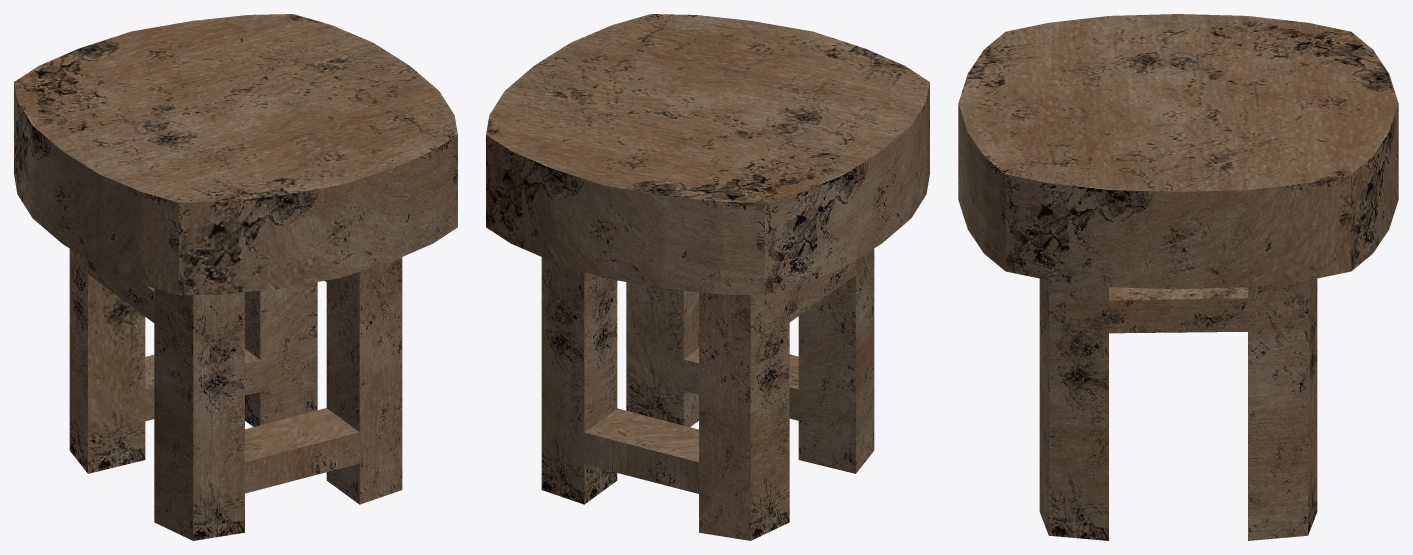
Rendered from stoolServants.glb.
3 views of the same model, side by side, from view 1: azimuth 30°, elevation 25°; view 2: azimuth 150°, elevation 25°; view 3: azimuth 270°, elevation 25° (orthographic). The views are drawn at different scales.
Visible parts, largest first — view 1: pCube1; view 2: pCube1; view 3: pCube1.
Part boxes in pixels (box(x1,y1,x2,y2)): pCube1: box(14, 14, 457, 540); pCube1: box(486, 14, 929, 540); pCube1: box(958, 14, 1398, 540).
Size of the model in its own units: 45.88 by 45.58 by 47.93.
1 material, 1 textured.
